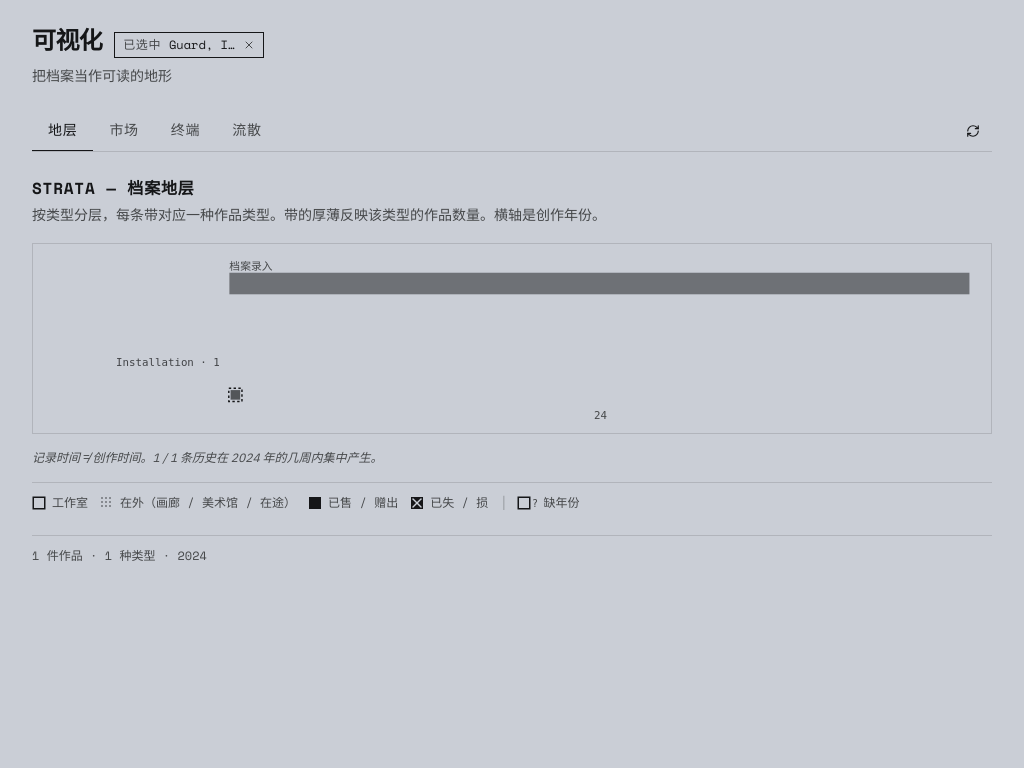
Visualize page › selection chip × 按钮清 selection（URL 去 sel）
Click the button named "清除选择": (249, 45) [243,39,255,51]
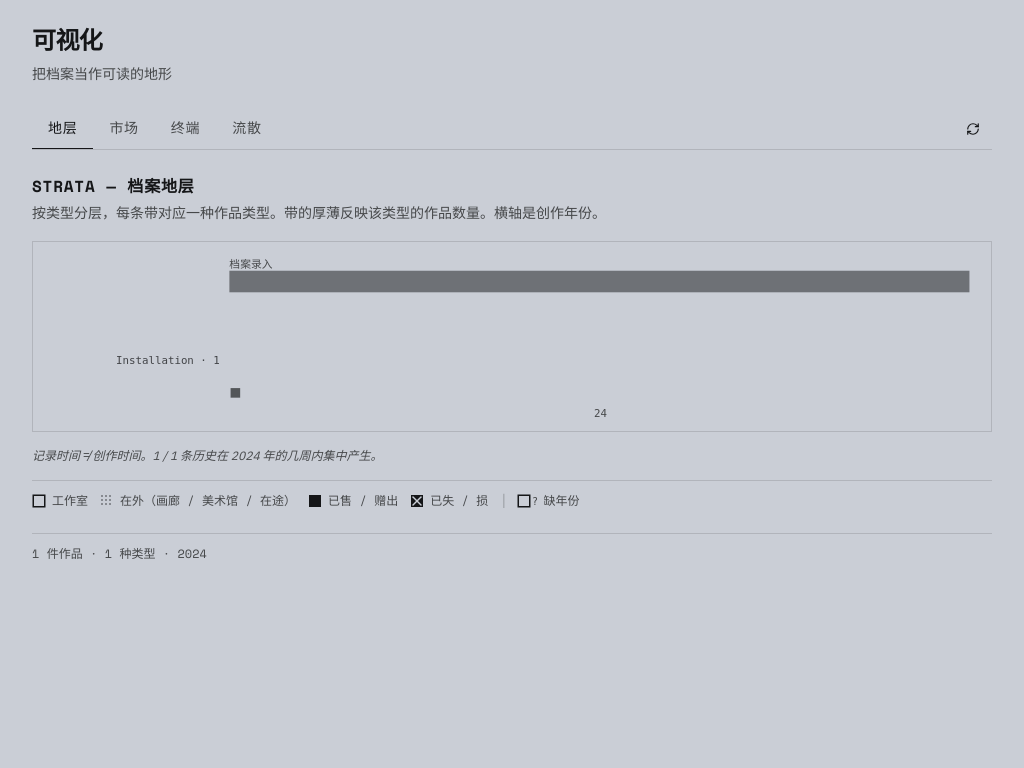
Result: the element with test id "visualize-selection-chip" is gone
